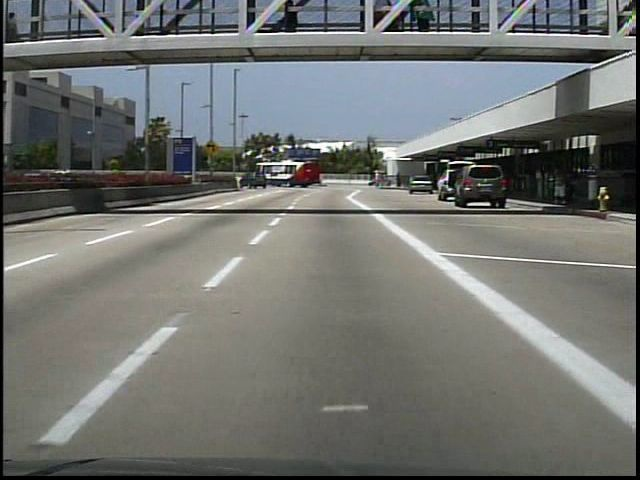person: (548, 160, 572, 208), (282, 5, 305, 36)
